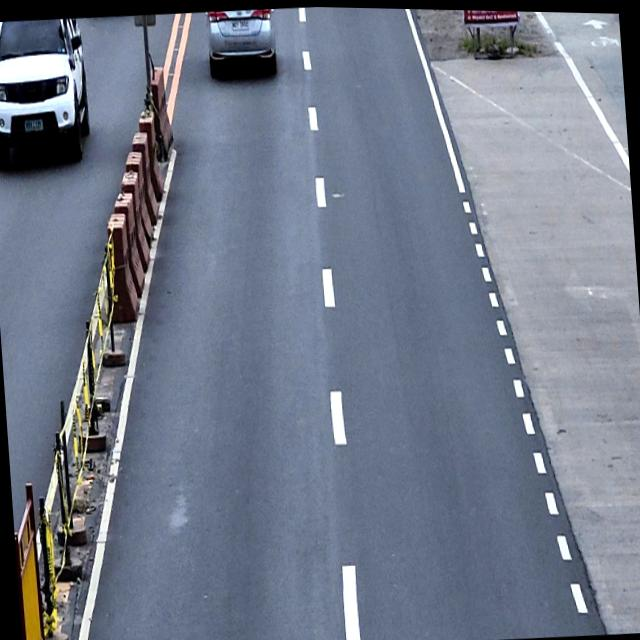Car: (0, 15, 92, 171), (204, 6, 278, 77)
License-Plate: (24, 117, 44, 132), (230, 17, 250, 31)
